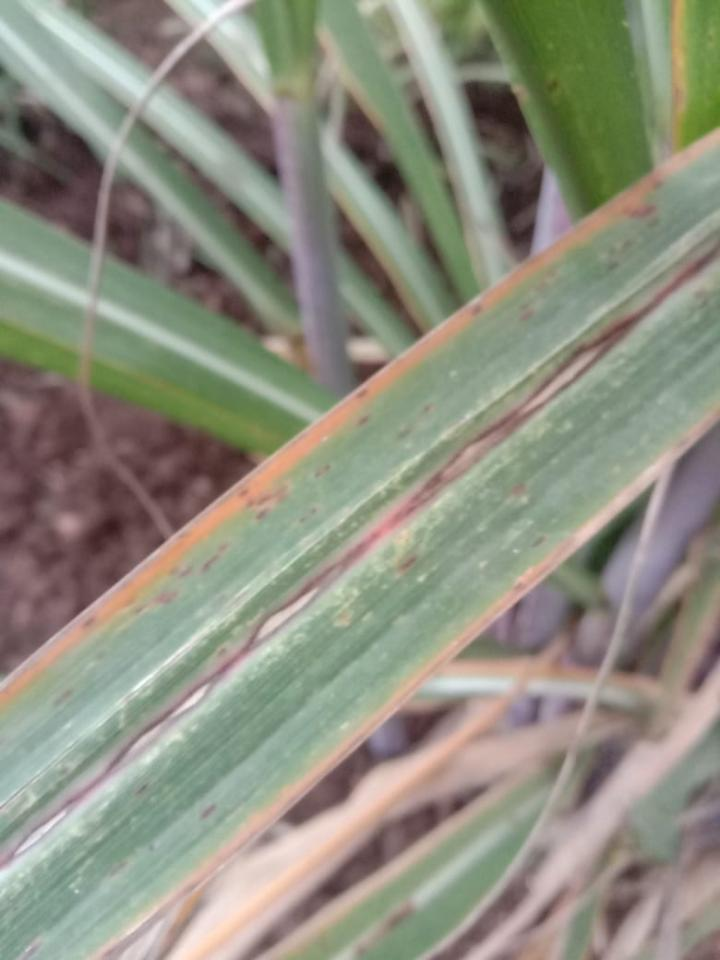RedRot: (4, 231, 719, 877)
Rust: (71, 536, 232, 631), (598, 170, 668, 274), (467, 263, 563, 326), (352, 385, 440, 442), (229, 481, 295, 528), (385, 553, 422, 576), (50, 684, 76, 711), (504, 477, 530, 502), (196, 800, 220, 826), (693, 287, 714, 315), (528, 533, 550, 557), (312, 461, 336, 481), (510, 576, 528, 595), (132, 783, 153, 799)
Yellow: (1, 125, 719, 712), (167, 402, 719, 899)
